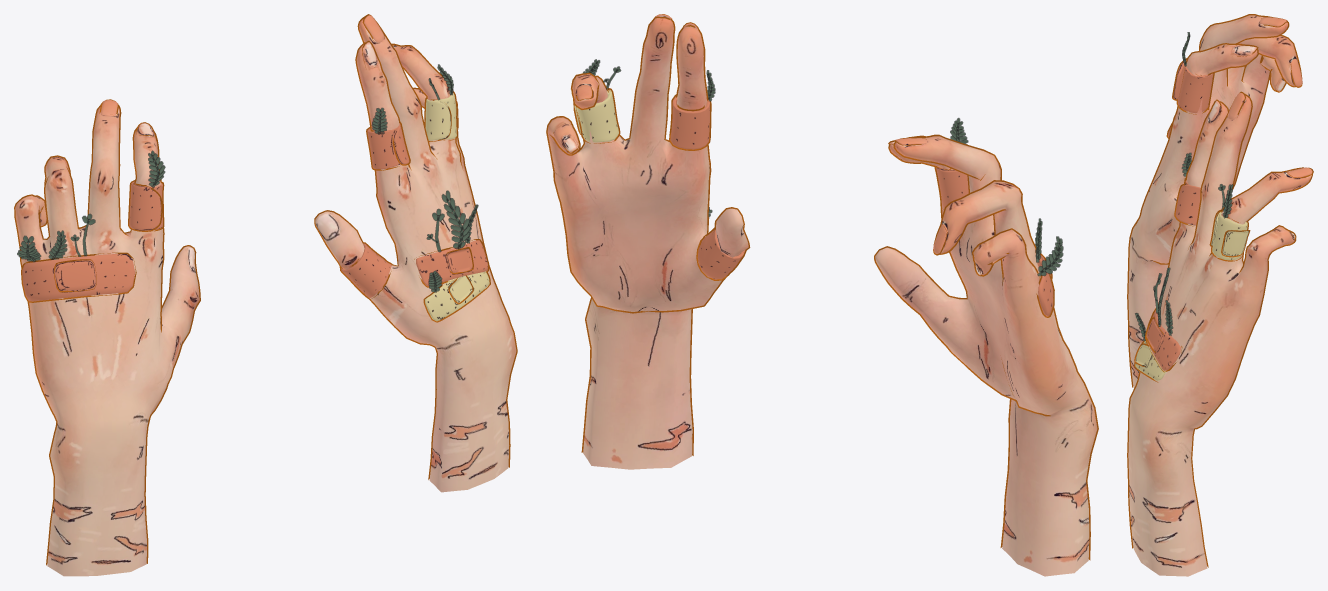
The model's file is hands.glb.
3 views of the same model, side by side, from view 1: azimuth 30°, elevation 25°; view 2: azimuth 150°, elevation 25°; view 3: azimuth 270°, elevation 25° (orthographic). The views are drawn at different scales.
Parts seen in each view (by area): view 1: Object_4, Object_5, Object_6, Object_2, Object_3; view 2: Object_4, Object_6, Object_5, Object_2, Object_3; view 3: Object_4, Object_6, Object_5, Object_2, Object_3.
Part boxes in pixels (x1=…): Object_4: x1=15, y1=15, x2=516, y2=576; Object_5: x1=22, y1=93, x2=489, y2=321; Object_6: x1=14, y1=14, x2=517, y2=565; Object_2: x1=17, y1=64, x2=478, y2=292; Object_3: x1=17, y1=65, x2=477, y2=291; Object_4: x1=547, y1=14, x2=1097, y2=576; Object_6: x1=546, y1=14, x2=1098, y2=560; Object_5: x1=574, y1=90, x2=1053, y2=316; Object_2: x1=583, y1=59, x2=1063, y2=276; Object_3: x1=583, y1=60, x2=1062, y2=275; Object_4: x1=1128, y1=15, x2=1312, y2=576; Object_6: x1=1127, y1=14, x2=1313, y2=567; Object_5: x1=1135, y1=60, x2=1248, y2=380; Object_2: x1=1135, y1=32, x2=1233, y2=341; Object_3: x1=1135, y1=32, x2=1232, y2=340.
Size of the model in its own units: 0.9811 by 0.9038 by 0.3503.
Materials: 5 (2 with a texture image).
